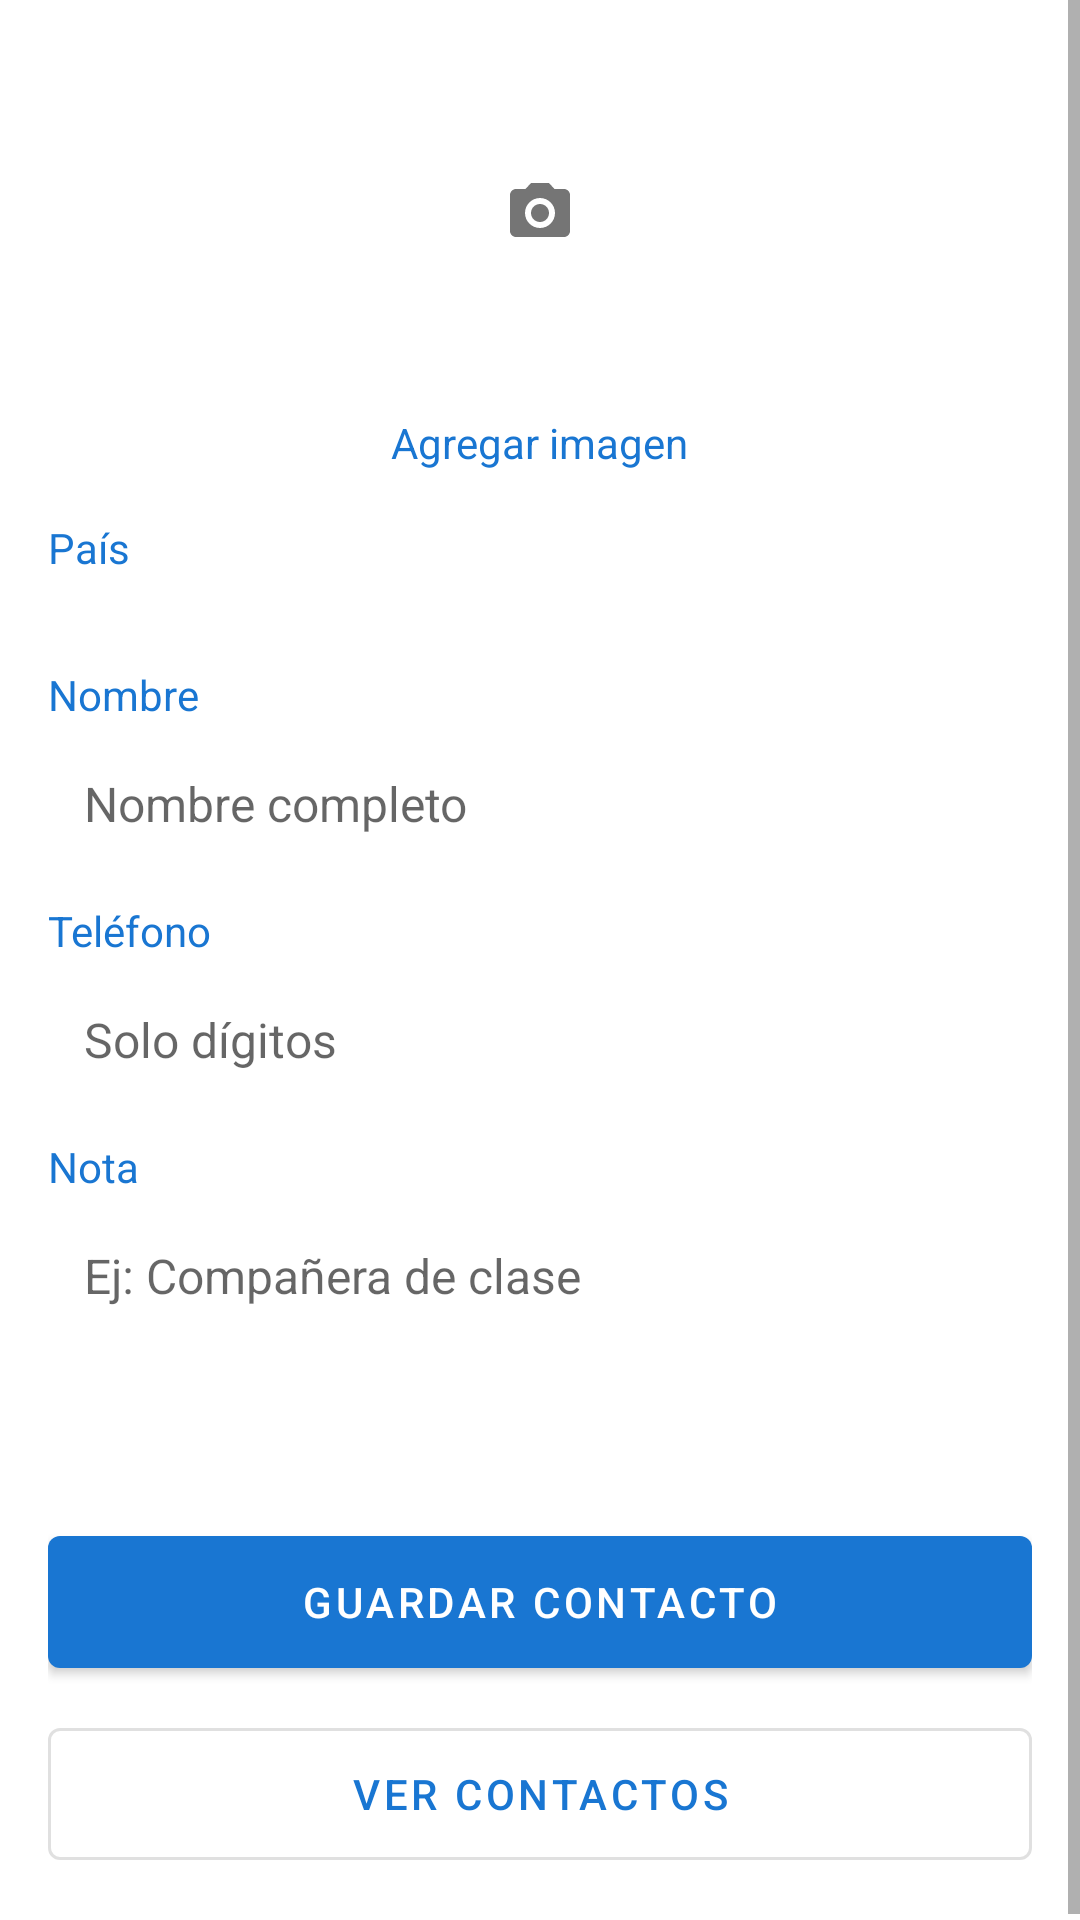

Screen size 1080*1920. Icon name, then its box in pixels as (x1, y1, x2, y2):
camera: (510, 183, 570, 237)
